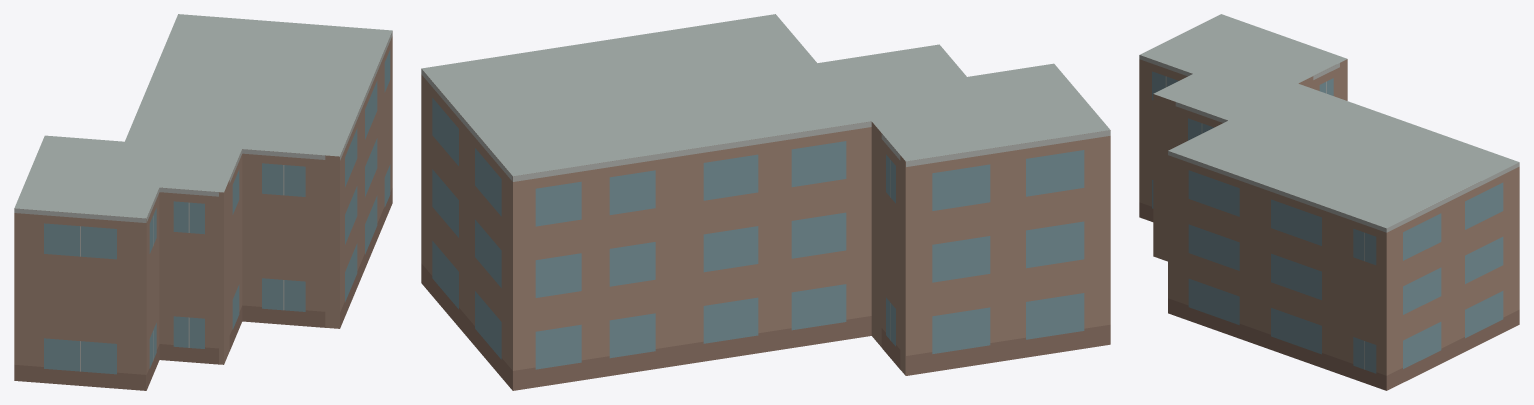
The model's file is survey-upis-32473507.glb.
The picture shows the model from 3 angles, left to right: view 1: azimuth 30°, elevation 25°; view 2: azimuth 150°, elevation 25°; view 3: azimuth 270°, elevation 25°; orthographic projection. The views are drawn at different scales.
Parts seen in each view (by area): view 1: survey-upis-32473507.tmp; view 2: survey-upis-32473507.tmp; view 3: survey-upis-32473507.tmp.
Part boxes in pixels (x1,y1,x2,y2): survey-upis-32473507.tmp: (14,14,392,390); survey-upis-32473507.tmp: (421,14,1110,390); survey-upis-32473507.tmp: (1139,14,1519,390).
Size of the model in its own units: 25.9 by 9.15 by 19.4.
